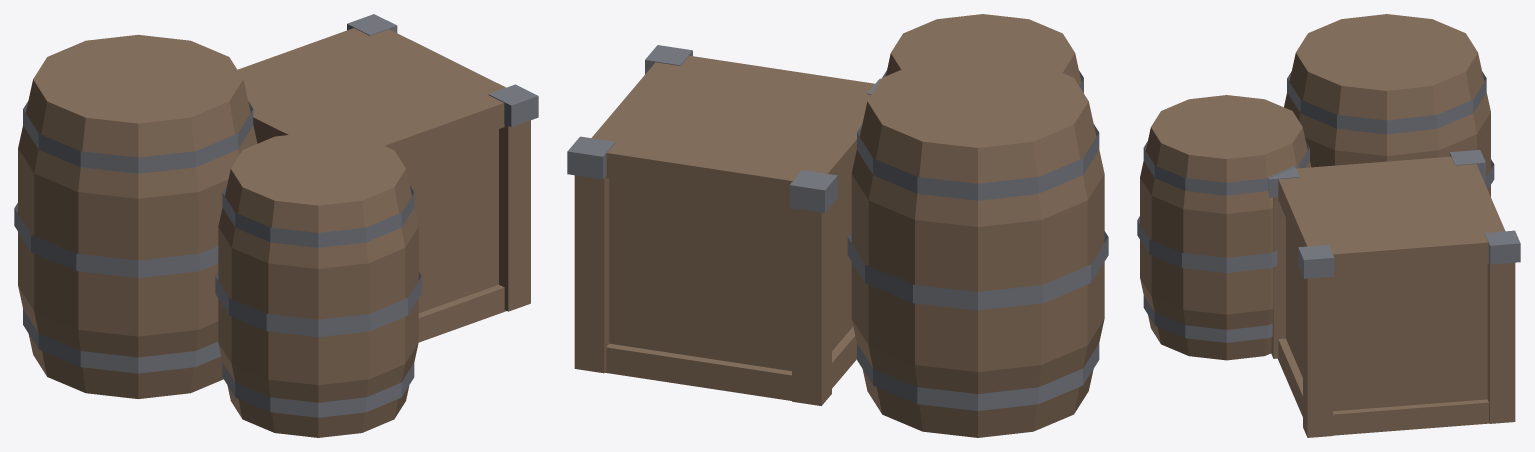
File: WoodenBarrelsCrates_Gothic.fbx
The picture shows the model from 3 angles, left to right: view 1: azimuth 30°, elevation 25°; view 2: azimuth 150°, elevation 25°; view 3: azimuth 270°, elevation 25°; orthographic projection. The views are drawn at different scales.
Parts seen in each view (by area): view 1: WoodenBarrelsCrates_Gothic; view 2: WoodenBarrelsCrates_Gothic; view 3: WoodenBarrelsCrates_Gothic.
Part boxes in pixels (x1,y1,x2,y2): WoodenBarrelsCrates_Gothic: (14,14,538,437); WoodenBarrelsCrates_Gothic: (567,14,1108,437); WoodenBarrelsCrates_Gothic: (1137,14,1520,437).
Bounding box in the file's own units: 1.78 × 1.03 × 1.48.
